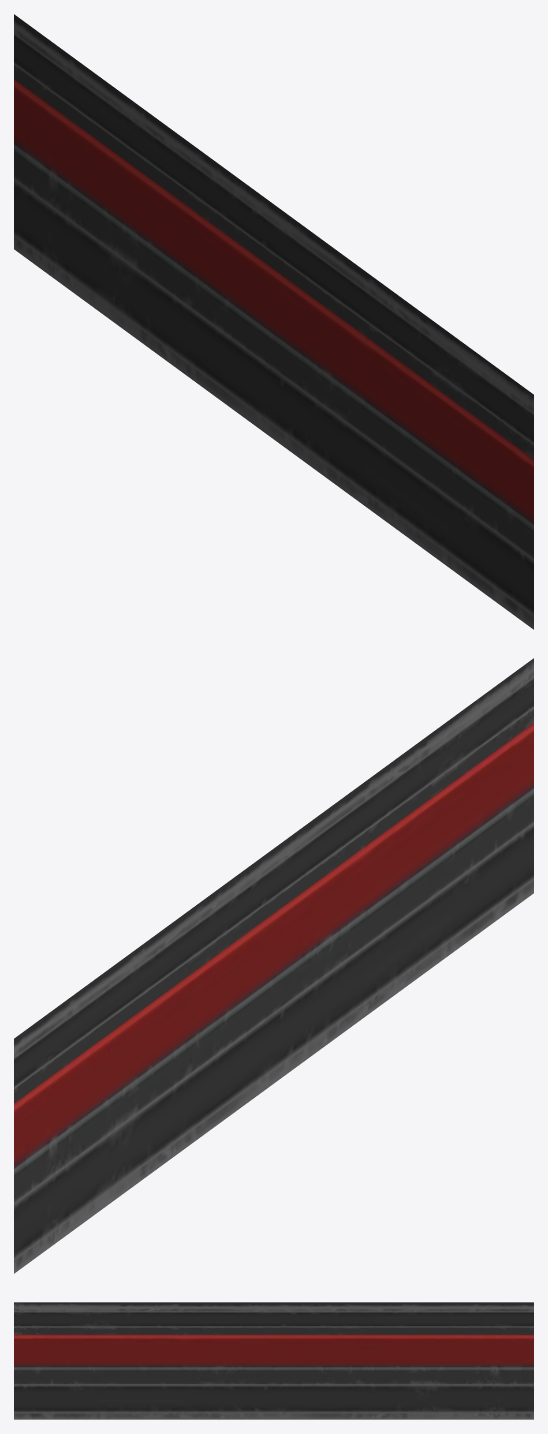
The model's file is ShortWall_AccentStrip_Straight.glb.
3 renders of one model, top to bottom at view 1: azimuth 30°, elevation 25°; view 2: azimuth 150°, elevation 25°; view 3: azimuth 270°, elevation 25°, orthographic. The views are drawn at different scales.
Parts seen in each view (by area): view 1: ShortWall_AccentStrip_Straight; view 2: ShortWall_AccentStrip_Straight; view 3: ShortWall_AccentStrip_Straight.
Part boxes in pixels (x1=…): ShortWall_AccentStrip_Straight: x1=14, y1=14, x2=533, y2=629; ShortWall_AccentStrip_Straight: x1=14, y1=658, x2=533, y2=1273; ShortWall_AccentStrip_Straight: x1=14, y1=1302, x2=533, y2=1419.
Bounding box in the file's own units: 0 × 0.9981 × 4.
Materials: 1 (1 with a texture image).
